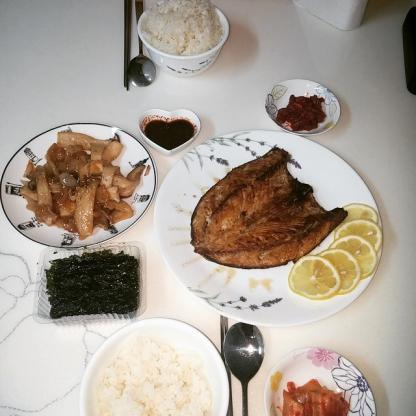Peixe: (182, 138, 344, 278)
